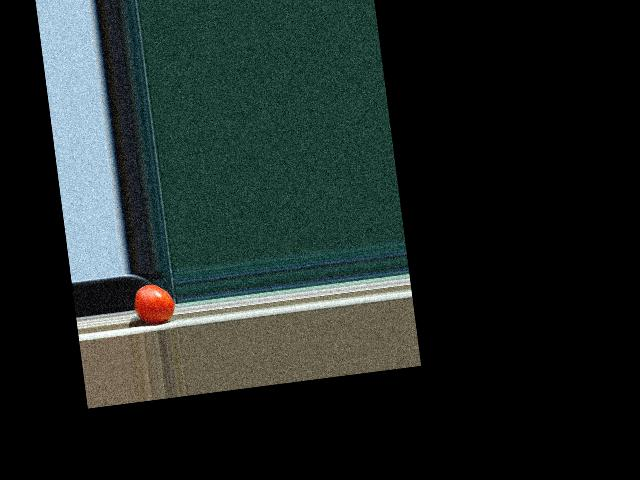tomato: (132, 281, 176, 325)
